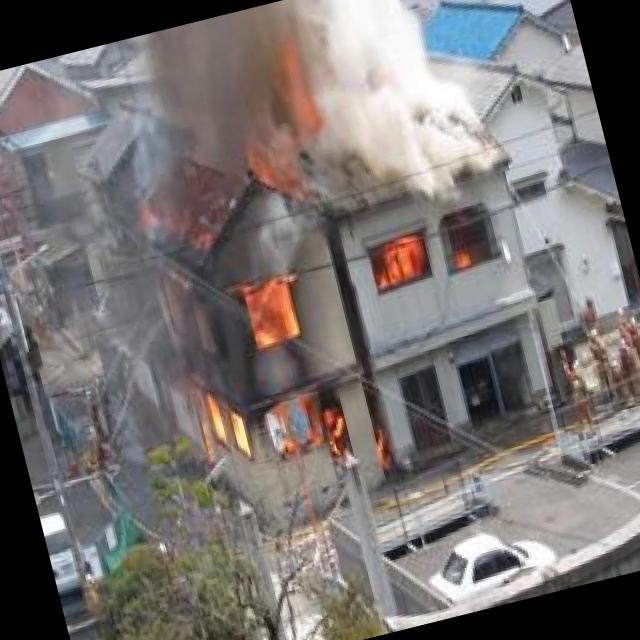Smoke: (129, 0, 524, 267)
